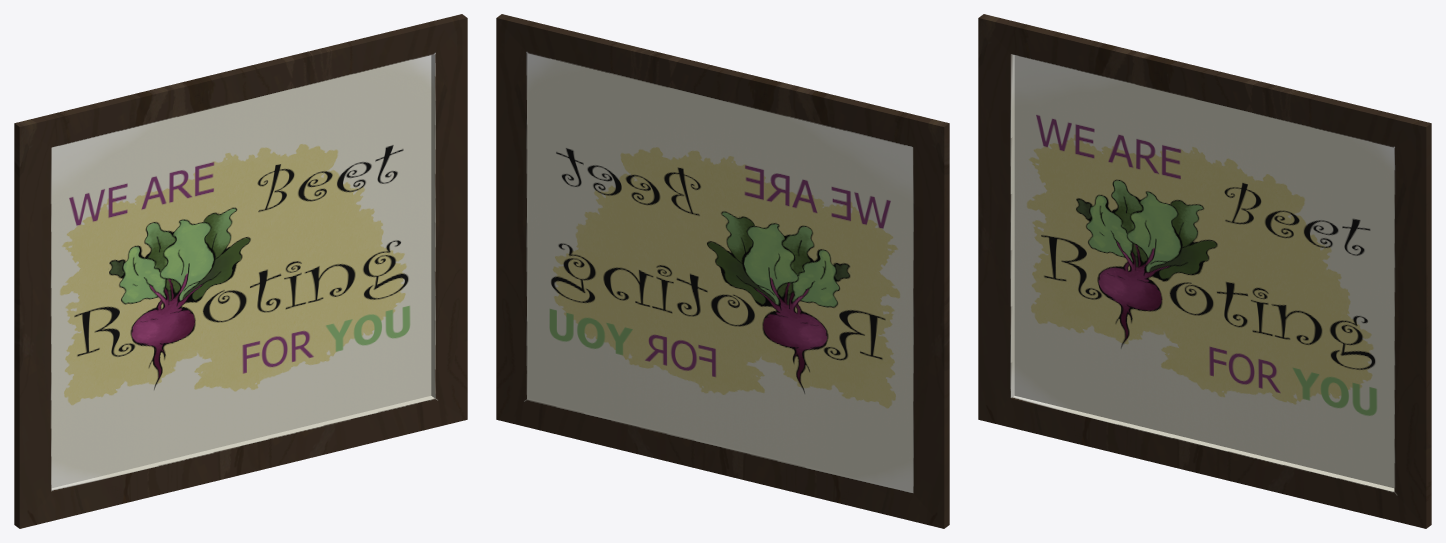
File: Poster.fbx
3 renders of one model, left to right at view 1: azimuth 30°, elevation 25°; view 2: azimuth 150°, elevation 25°; view 3: azimuth 330°, elevation 25°, orthographic.
Visible parts, largest first — view 1: pCube1; view 2: pCube1; view 3: pCube1.
Part boxes in pixels (x1,y1,x2,y2): pCube1: [14, 14, 467, 528]; pCube1: [496, 14, 949, 528]; pCube1: [978, 14, 1431, 528].
Bounding box in the file's own units: 5.63 × 4.83 × 0.1176.
Materials: 1 (1 with a texture image).
